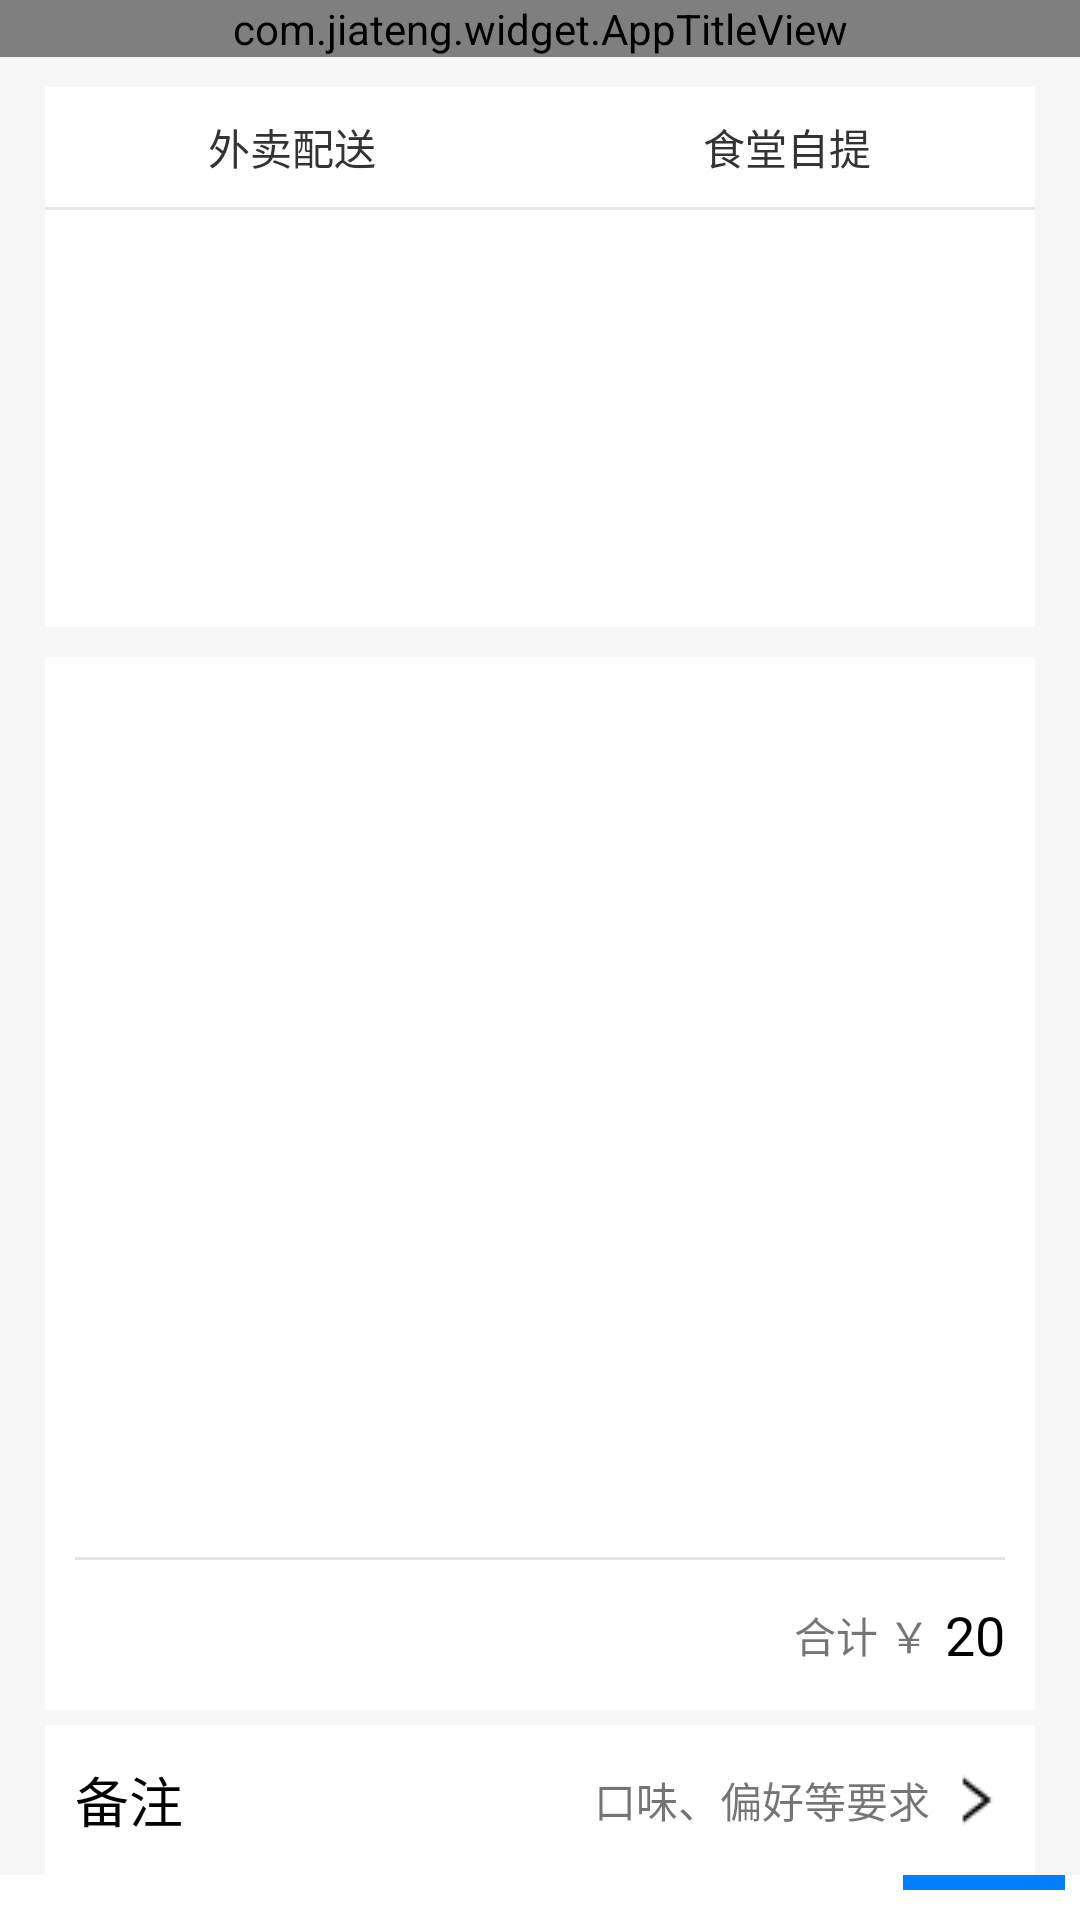

Icon bounding boxes for this 1080 x 1920 phone screenshot, format (x1=x1, y1=y1, x2=x2, y2=y2):
right: (x1=962, y1=1776, x2=991, y2=1824)
